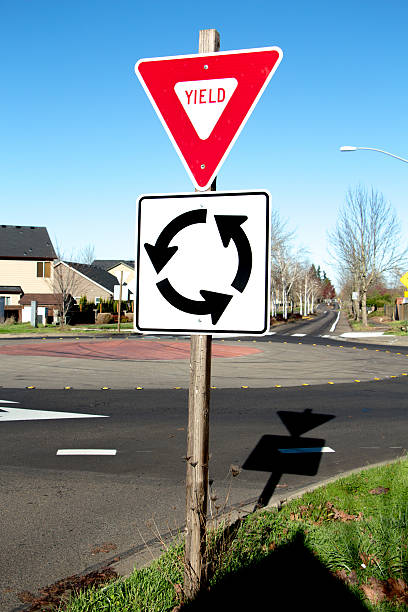sign_yield: (133, 45, 283, 192)
